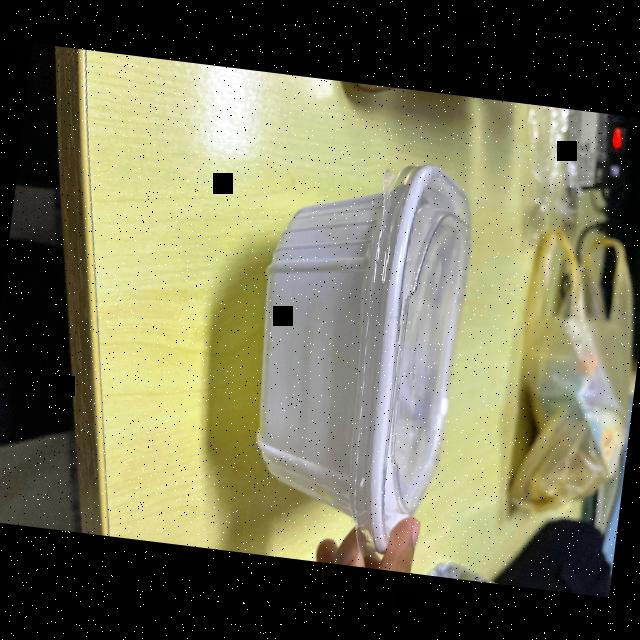plastic_box: (222, 145, 491, 556)
